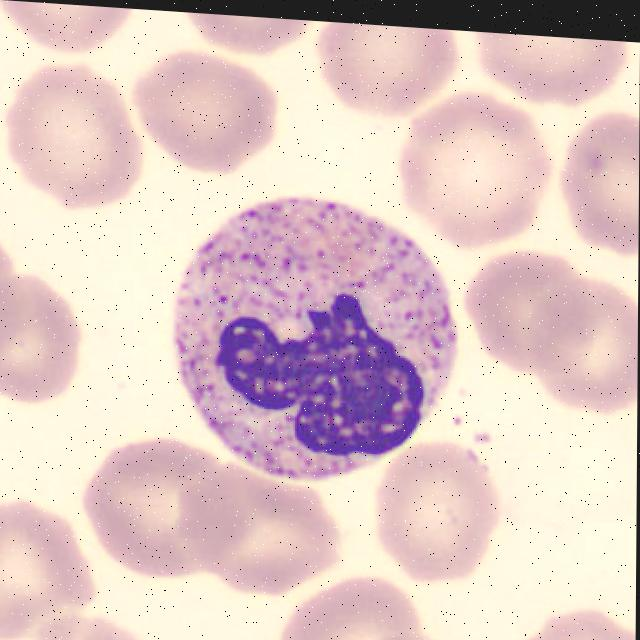neutrophil: (166, 183, 458, 499)
rbc: (403, 96, 553, 247), (182, 477, 333, 604), (134, 51, 284, 178), (17, 62, 148, 204), (95, 443, 233, 575), (369, 447, 497, 584), (325, 22, 461, 123), (0, 505, 99, 640), (541, 113, 639, 248), (473, 254, 584, 366), (549, 277, 638, 406), (481, 32, 629, 107), (263, 570, 417, 640), (0, 278, 81, 407), (0, 0, 141, 51), (186, 12, 314, 59), (518, 609, 636, 640), (0, 236, 26, 365), (37, 614, 151, 640), (359, 630, 473, 640)
